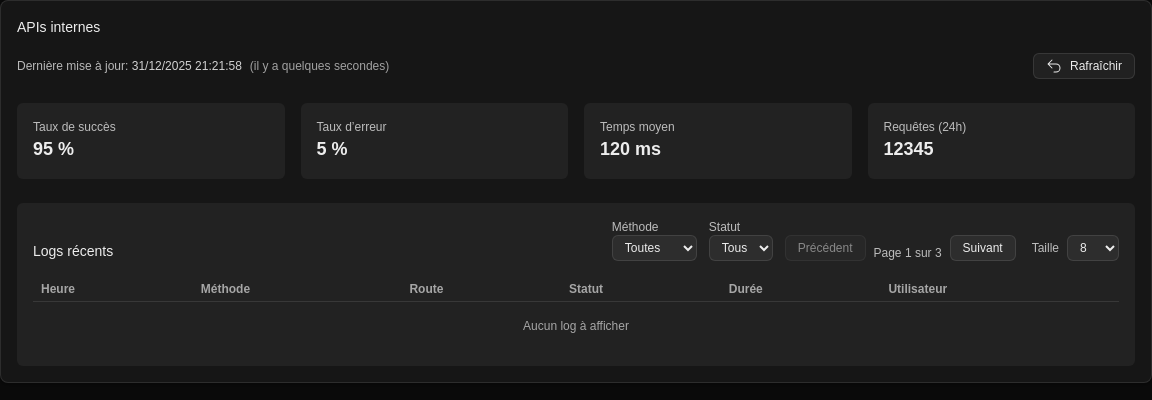
Test: InternalApisWidget › affiche les filtres et la pagination, et applique les interactions
The image size is (1152, 400).
Check: the column heading "Heure" is shown, box x1=33 y1=277 x2=193 y2=302
Check: the dropdown labelled "Méthode" shows "Toutes", box x1=612 y1=235 x2=697 y2=261
Click the button "Suivant" at (983, 248), box x1=950 y1=235 x2=1016 y2=261
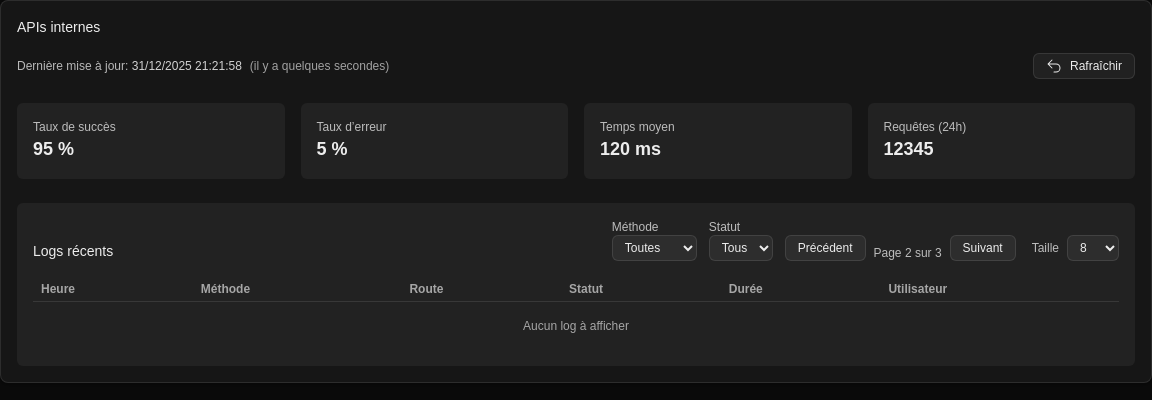
Check: the button "Précédent" is enabled, box x1=785 y1=235 x2=866 y2=261
Select "10" in the dropdown labelled "Taille" at (1093, 248), box x1=1067 y1=235 x2=1119 y2=261
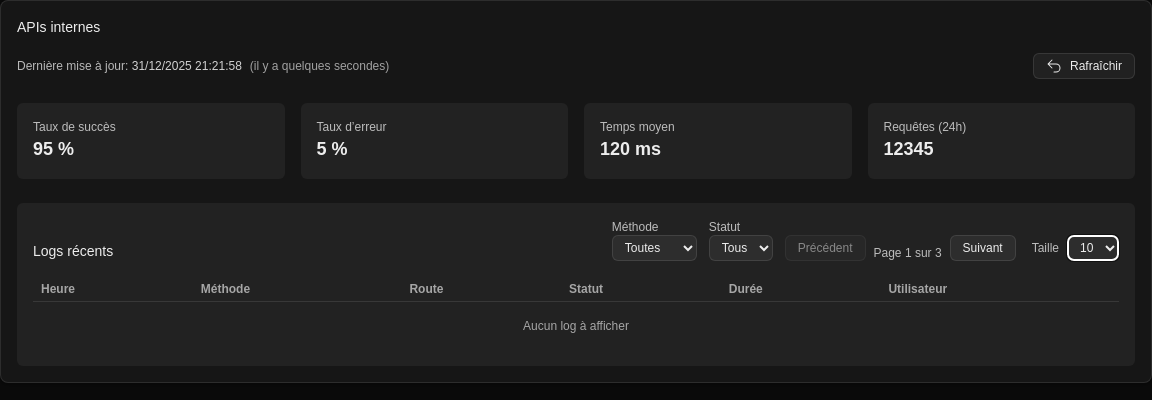
Note: Filtrer par méthode GET
Select "GET" in the dropdown labelled "Méthode" at (654, 248), box x1=612 y1=235 x2=697 y2=261
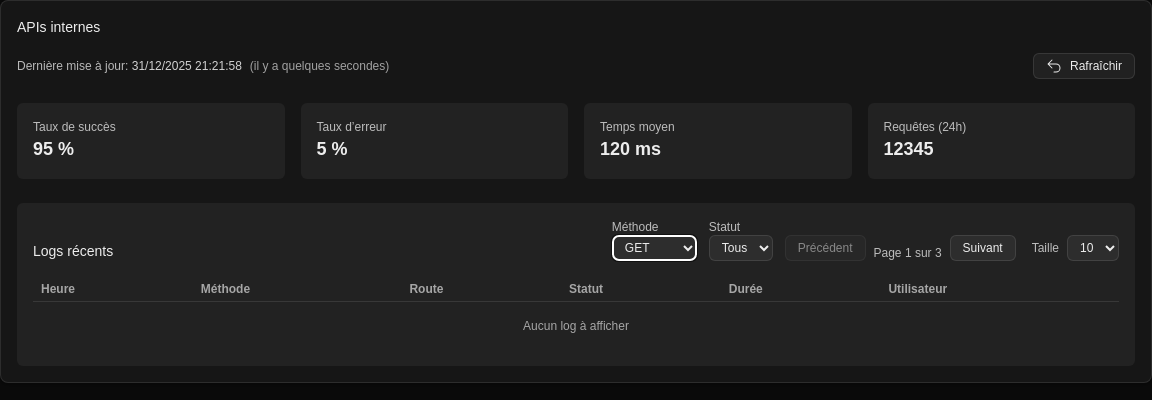
Note: Filtrer par statut 2xx
Select "2xx" in the dropdown labelled "Statut" at (741, 248), box x1=709 y1=235 x2=773 y2=261
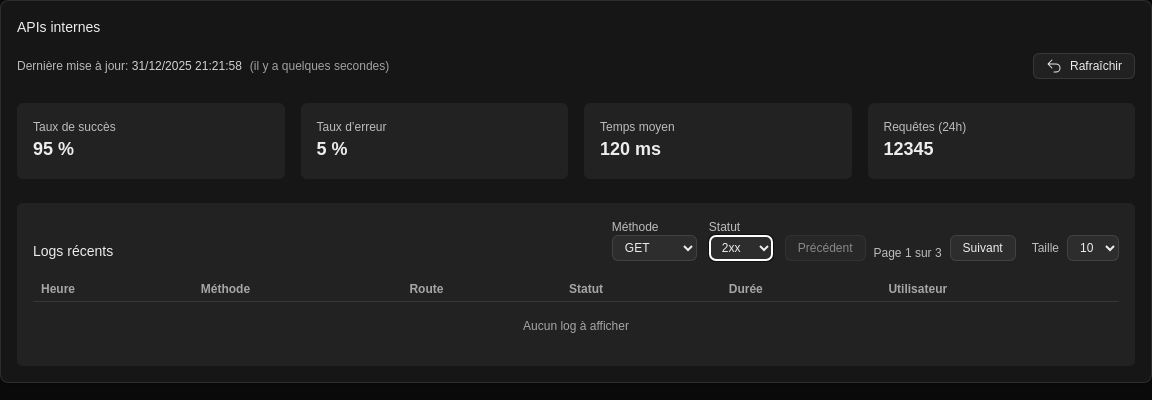
Click the button "Suivant" at (983, 248), box x1=950 y1=235 x2=1016 y2=261
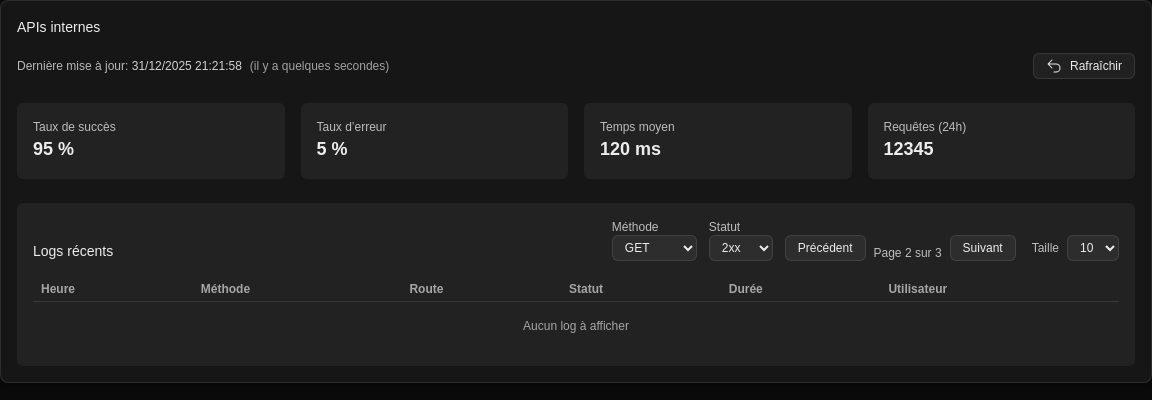
Click the button "Suivant" at (983, 248), box x1=950 y1=235 x2=1016 y2=261
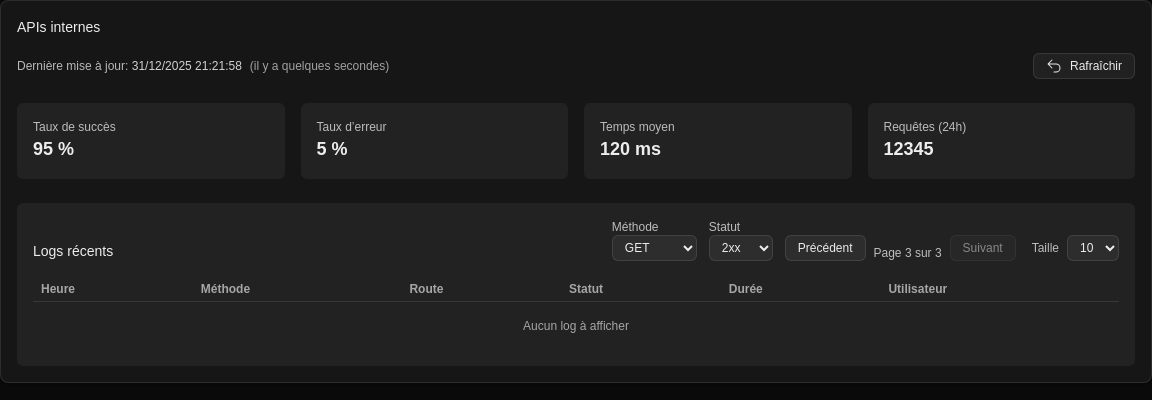
Check: the button "Suivant" is disabled, box x1=950 y1=235 x2=1016 y2=261
